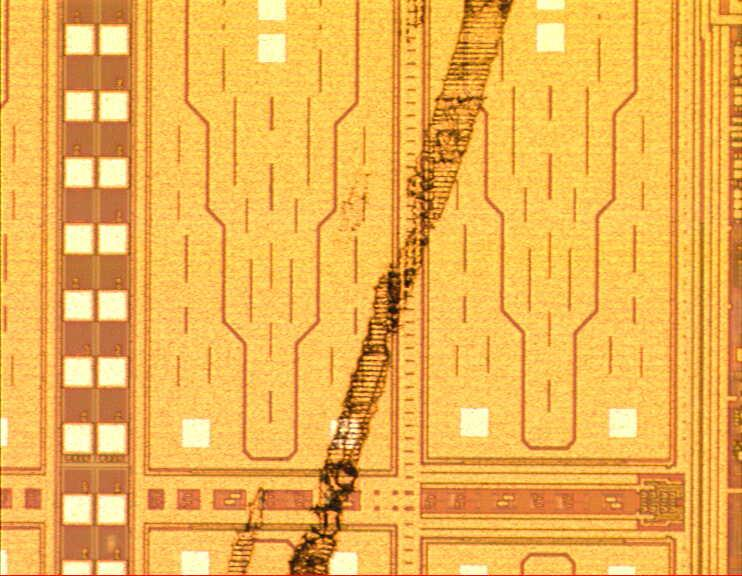SCRATCH: (218, 1, 521, 576)
